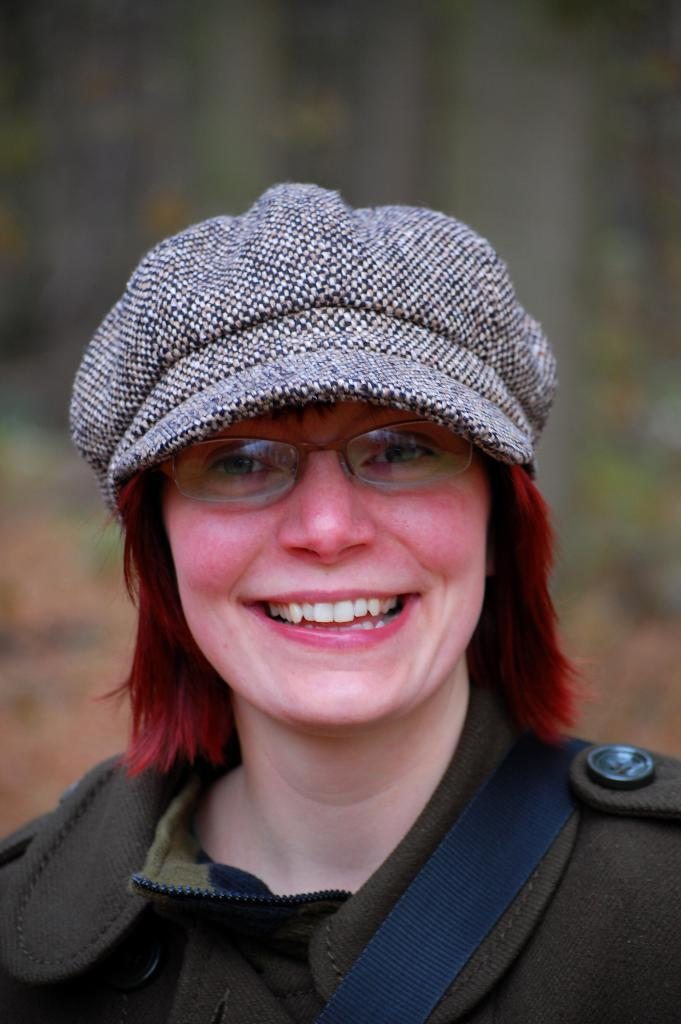Hat: (62, 176, 580, 478)
